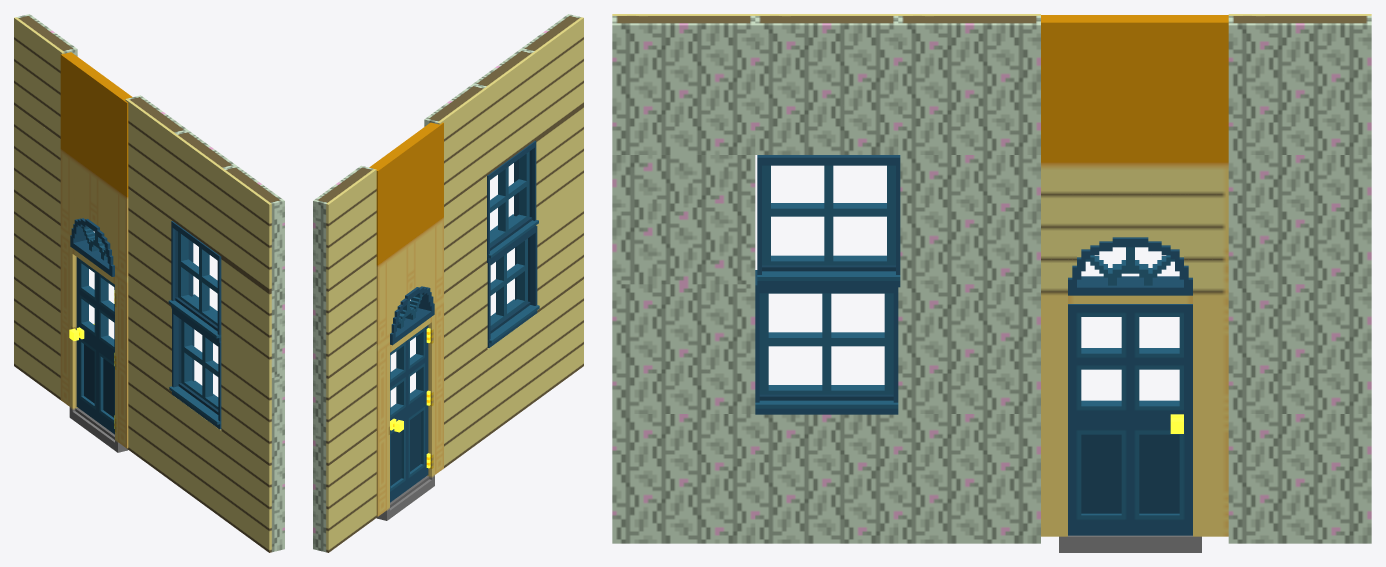
The model's file is door_wall.dae.
3 renders of one model, left to right at view 1: azimuth 30°, elevation 25°; view 2: azimuth 150°, elevation 25°; view 3: azimuth 270°, elevation 25°, orthographic. The views are drawn at different scales.
Parts seen in each view (by area): view 1: pl0 (×18); view 2: pl0 (×18), pl1 (×2); view 3: pl0 (×18).
Boxes of the visible parts, box(x1,y1,x2,y2) form: pl0 (×18): box(14, 14, 284, 552); pl0 (×18): box(313, 14, 583, 552); pl1 (×2): box(388, 328, 433, 507); pl0 (×18): box(612, 14, 1371, 552).
Size of the model in its own units: 11.5 by 170 by 132.
